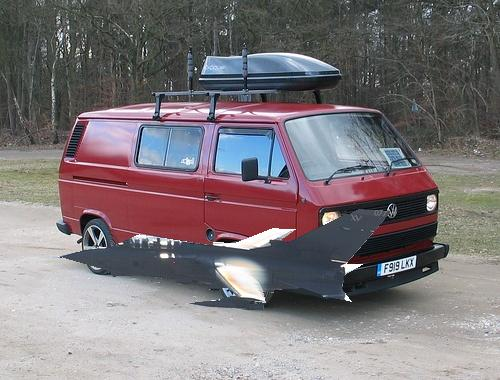tampered: (45, 210, 390, 309)
